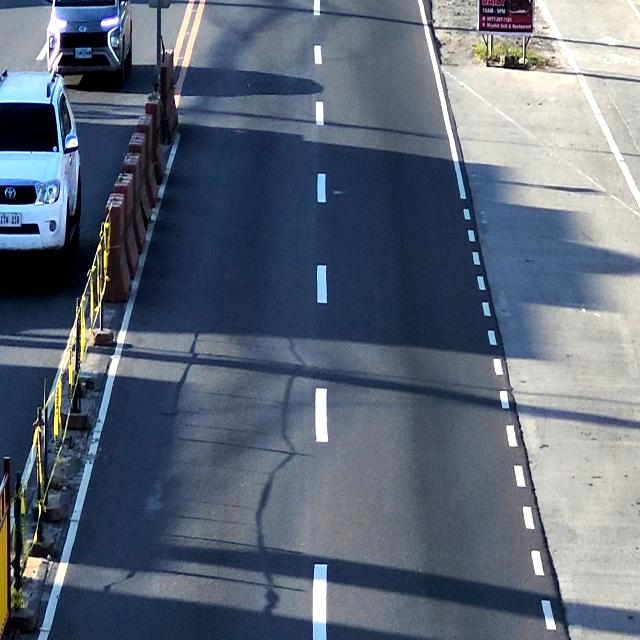License-Plate: (0, 212, 24, 230), (74, 47, 92, 61)
